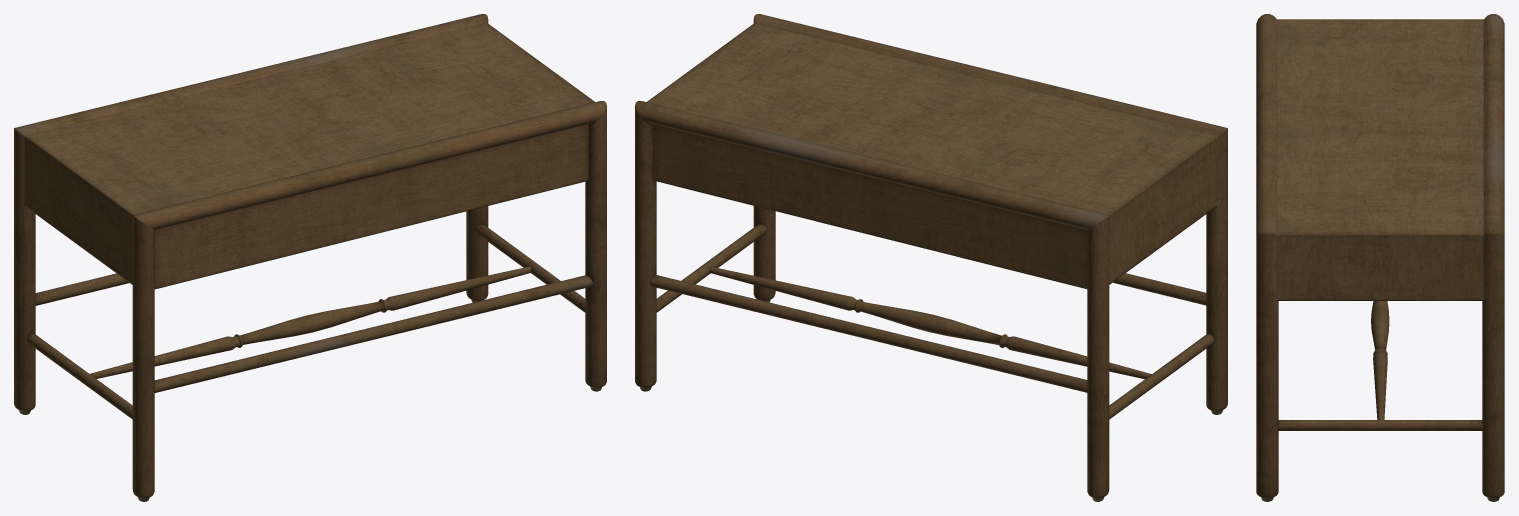
Rendered from small_wooden_table_01.glb.
3 views of the same model, side by side, from view 1: azimuth 30°, elevation 25°; view 2: azimuth 150°, elevation 25°; view 3: azimuth 270°, elevation 25° (orthographic). The views are drawn at different scales.
Parts seen in each view (by area): view 1: small_wooden_table_01; view 2: small_wooden_table_01; view 3: small_wooden_table_01.
Part boxes in pixels (x1,y1,x2,y2): small_wooden_table_01: [14, 14, 606, 501]; small_wooden_table_01: [635, 14, 1227, 501]; small_wooden_table_01: [1256, 14, 1504, 501].
Size of the model in its own units: 0.9162 by 0.5331 by 0.4399.
Materials: 1 (1 with a texture image).
